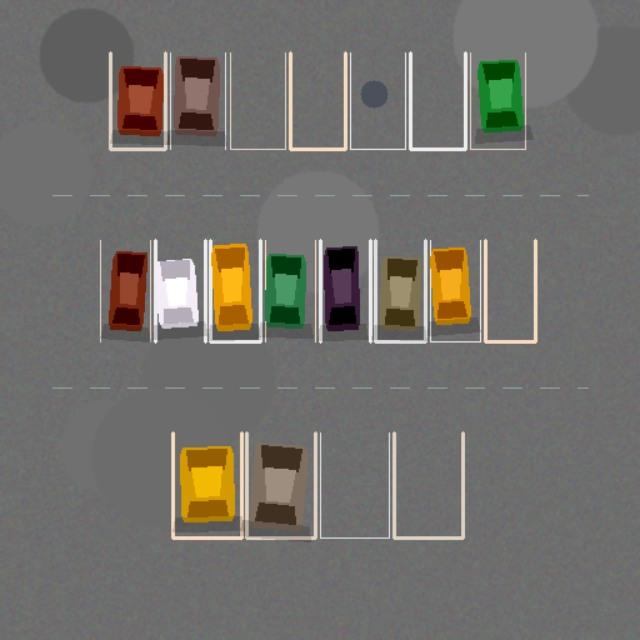space-empty: (320, 432, 389, 537), (394, 432, 462, 537), (230, 53, 285, 149), (290, 53, 345, 149), (350, 53, 405, 149), (410, 53, 465, 149), (485, 240, 535, 341)
space-occupied: (172, 432, 241, 537), (246, 432, 315, 537), (110, 53, 165, 149), (170, 53, 225, 149), (470, 53, 525, 149), (100, 240, 150, 341), (155, 240, 205, 341), (210, 240, 260, 341), (265, 240, 315, 341), (320, 240, 370, 341), (375, 240, 425, 341), (430, 240, 480, 341)
